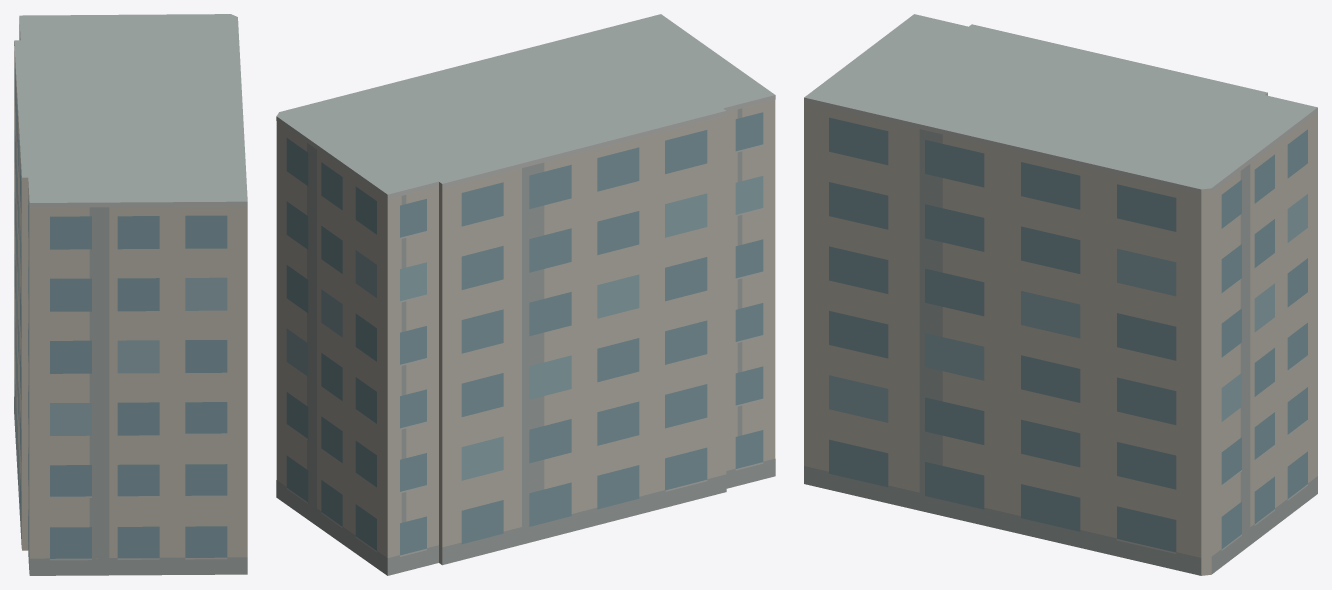
File: survey-upis-32888358.glb
The picture shows the model from 3 angles, left to right: view 1: azimuth 30°, elevation 25°; view 2: azimuth 150°, elevation 25°; view 3: azimuth 270°, elevation 25°; orthographic projection. The views are drawn at different scales.
Visible parts, largest first — view 1: survey-upis-32888358.tmp; view 2: survey-upis-32888358.tmp; view 3: survey-upis-32888358.tmp.
Part boxes in pixels (left/top/right/bottom): survey-upis-32888358.tmp: left=14, top=14, right=247, bottom=575; survey-upis-32888358.tmp: left=276, top=14, right=775, bottom=575; survey-upis-32888358.tmp: left=804, top=14, right=1317, bottom=575.
Bounding box in the file's own units: 18.9 × 19.4 × 23.38.
